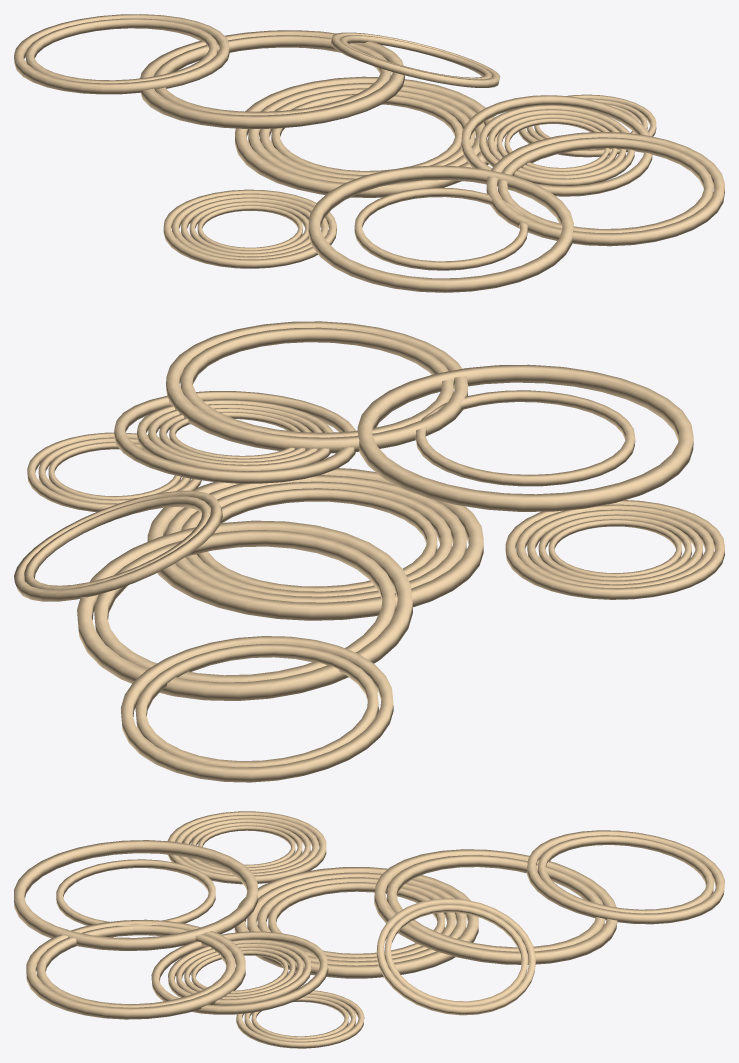
File: oignon.fbx
The picture shows the model from 3 angles, top to bottom: view 1: azimuth 30°, elevation 25°; view 2: azimuth 150°, elevation 25°; view 3: azimuth 270°, elevation 25°; orthographic projection. The views are drawn at different scales.
Parts seen in each view (by area): view 1: Onion slice.017, Onion slice.018, Onion slice.016, Onion slice, Onion slice.020, Onion slice.015, Onion slice.014, Onion slice.019, Onion slice.013, Onion slice.021, Onion slice.004, Onion slice.001 (+14 smaller); view 2: Onion slice.017, Onion slice.018, Onion slice.020, Onion slice, Onion slice.016, Onion slice.019, Onion slice.015, Onion slice.021, Onion slice.014, Onion slice.013, Onion slice.003, Onion slice.001 (+15 smaller); view 3: Onion slice.017, Onion slice.018, Onion slice.016, Onion slice.020, Onion slice.019, Onion slice, Onion slice.022, Onion slice.014, Onion slice.015, Onion slice.021, Onion slice.023, Onion slice.013 (+15 smaller).
Part boxes in pixels (<box>): Onion slice.017: <box>308,165,573,292</box>; Onion slice.018: <box>140,30,404,128</box>; Onion slice.016: <box>486,132,724,246</box>; Onion slice: <box>235,76,498,197</box>; Onion slice.020: <box>14,14,229,94</box>; Onion slice.015: <box>498,137,713,232</box>; Onion slice.014: <box>461,95,652,196</box>; Onion slice.019: <box>154,35,391,115</box>; Onion slice.013: <box>354,187,527,270</box>; Onion slice.021: <box>25,18,217,83</box>; Onion slice.004: <box>163,189,336,268</box>; Onion slice.001: <box>248,83,486,182</box>; Onion slice.017: <box>357,364,693,511</box>; Onion slice.018: <box>77,520,412,700</box>; Onion slice.020: <box>121,636,393,782</box>; Onion slice: <box>147,468,483,620</box>; Onion slice.016: <box>166,321,468,453</box>; Onion slice.019: <box>94,530,395,682</box>; Onion slice.015: <box>180,327,453,437</box>; Onion slice.021: <box>135,644,378,767</box>; Onion slice.014: <box>114,391,355,483</box>; Onion slice.013: <box>415,390,635,486</box>; Onion slice.003: <box>196,488,437,591</box>; Onion slice.001: <box>165,475,466,602</box>; Onion slice.017: <box>14,840,257,950</box>; Onion slice.018: <box>374,849,617,964</box>; Onion slice.016: <box>26,919,245,1019</box>; Onion slice.020: <box>527,830,724,924</box>; Onion slice.019: <box>386,855,605,951</box>; Onion slice: <box>234,867,478,978</box>; Onion slice.022: <box>376,898,535,1015</box>; Onion slice.014: <box>151,931,328,1014</box>; Onion slice.015: <box>37,925,235,1007</box>; Onion slice.021: <box>537,835,714,913</box>; Onion slice.023: <box>384,904,527,1005</box>; Onion slice.013: <box>56,859,215,926</box>.
Size of the model in its own units: 433 by 50.06 by 578.
